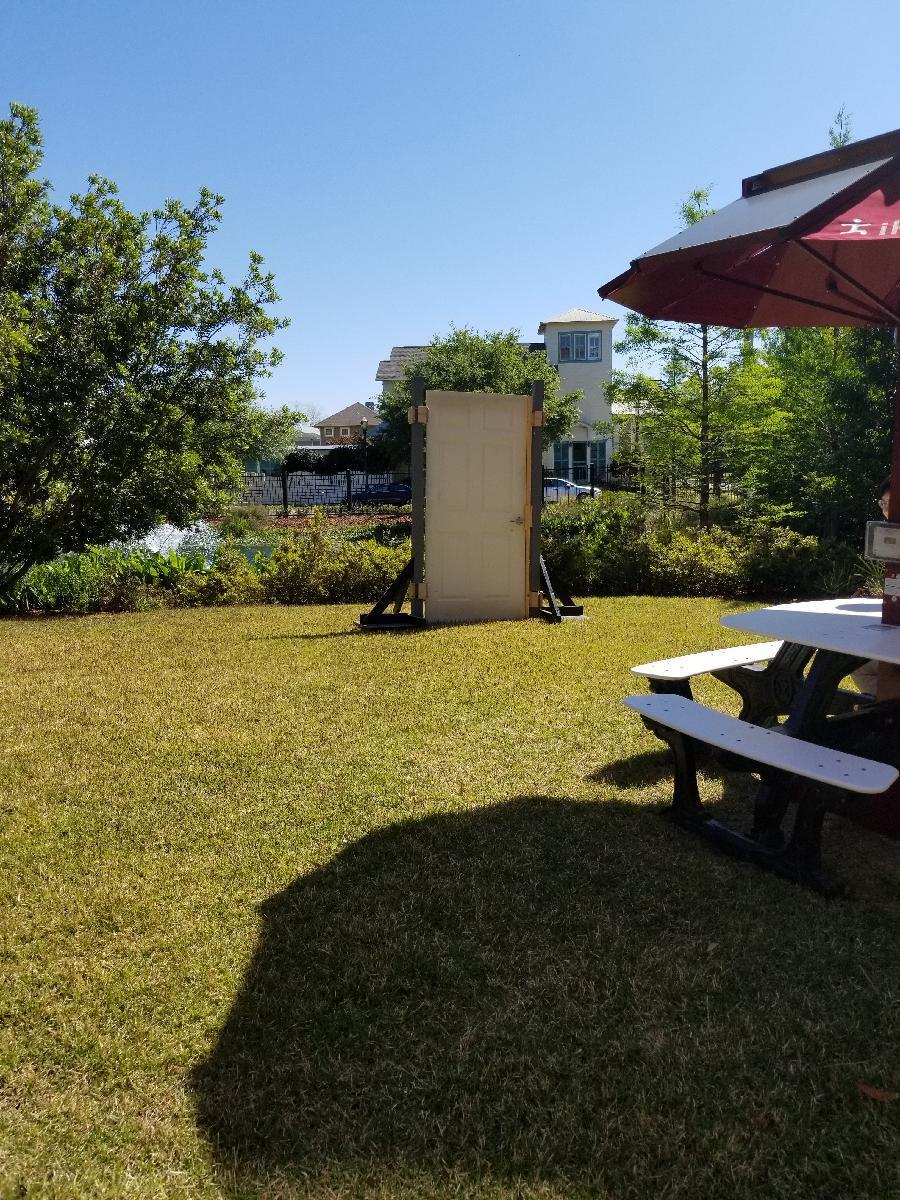door: (425, 388, 532, 623)
handle: (508, 513, 527, 528)
